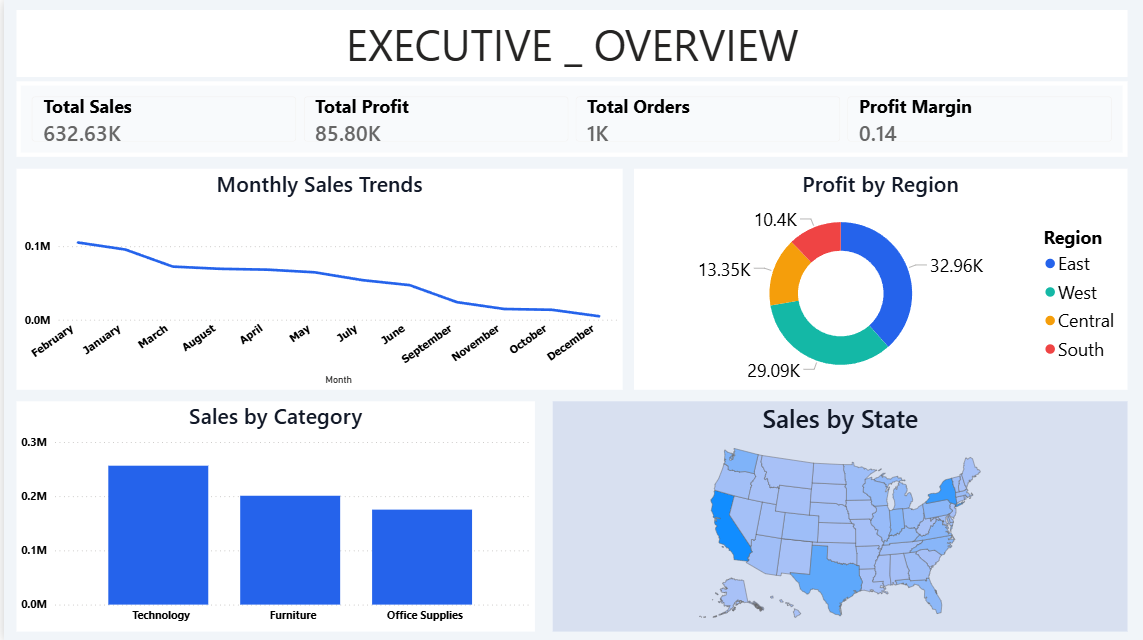

The page's visual inventory and layout, read from the dashboard file:
{"tool":"powerbi","page":{"name":"EXECUTIVE_SUMMARY","canvas":[1280,720],"ordinal":0},"visuals":[{"type":"cardVisual","fields":{"Data":["ALL_MEASURES.Total Sales","ALL_MEASURES.Total Profit","ALL_MEASURES.Total Orders","ALL_MEASURES.Profit Margin"]},"box":[13.3,91.7,1246.7,85],"z":0},{"type":"lineChart","title":"Monthly Sales Trends","fields":{"Category":["Date Table.Month"],"Y":["ALL_MEASURES.Total Sales"]},"box":[13.3,190,680,248.3],"z":1000},{"type":"columnChart","title":"Sales by Category","fields":{"Y":["ALL_MEASURES.Total Sales"],"Category":["Sample - Superstore.Category"]},"box":[13.3,450,581.7,258.3],"z":2000},{"type":"donutChart","title":" Profit by Region","fields":{"Y":["ALL_MEASURES.Total Profit"],"Category":["Sample - Superstore.Region"]},"box":[706.7,190,553.3,248.3],"z":3000},{"type":"shapeMap","title":" Sales by State","fields":{"Value":["ALL_MEASURES.Total Sales"],"Category":["Sample - Superstore.State"]},"box":[615,450,645,258.3],"z":4000},{"type":"textbox","box":[13.3,11.7,1246.7,75],"z":5000}]}

Visuals, with their boxes in screenshot pixels (x1, y1, x2, y2), scaled from the page's 1280x720 canvas onto the 1143x640 screenshot:
cardVisual - ALL_MEASURES.Total Sales x ALL_MEASURES.Total Profit: x1=12, y1=82, x2=1125, y2=157
"Monthly Sales Trends" lineChart: x1=12, y1=169, x2=619, y2=390
"Sales by Category" columnChart: x1=12, y1=400, x2=531, y2=630
" Profit by Region" donutChart: x1=631, y1=169, x2=1125, y2=390
" Sales by State" shapeMap: x1=549, y1=400, x2=1125, y2=630
textbox: x1=12, y1=10, x2=1125, y2=77
